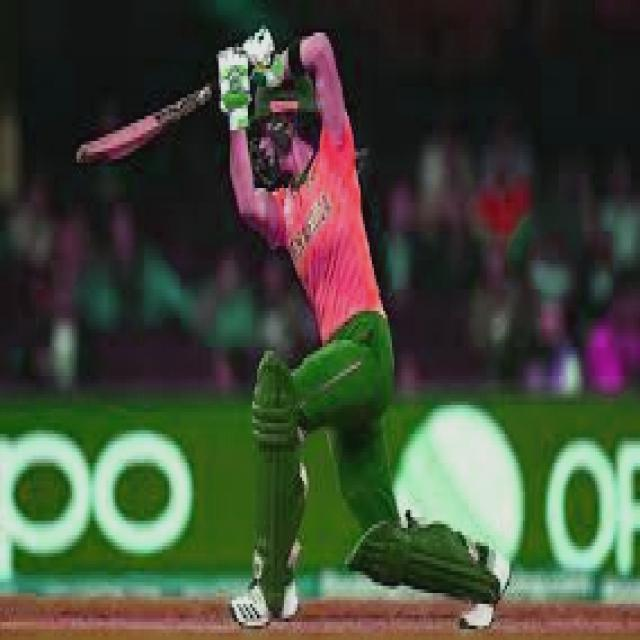bat: (78, 83, 222, 163)
toe: (78, 144, 108, 162)
